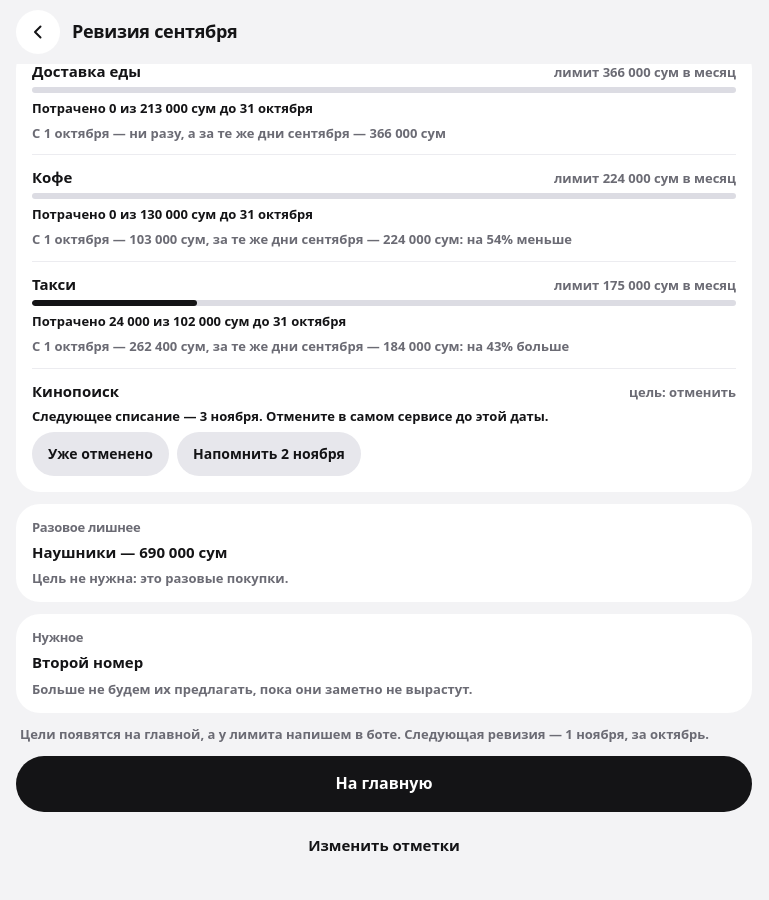
«Готово» and the result («Ревизия · итог и цели») › «Изменить отметки» returns to the list; «Готово» again shows the result
This screenshot has width=769, height=900.
(page scrolled)
Click the button "Изменить отметки" at (384, 846), box [16,824,752,868]
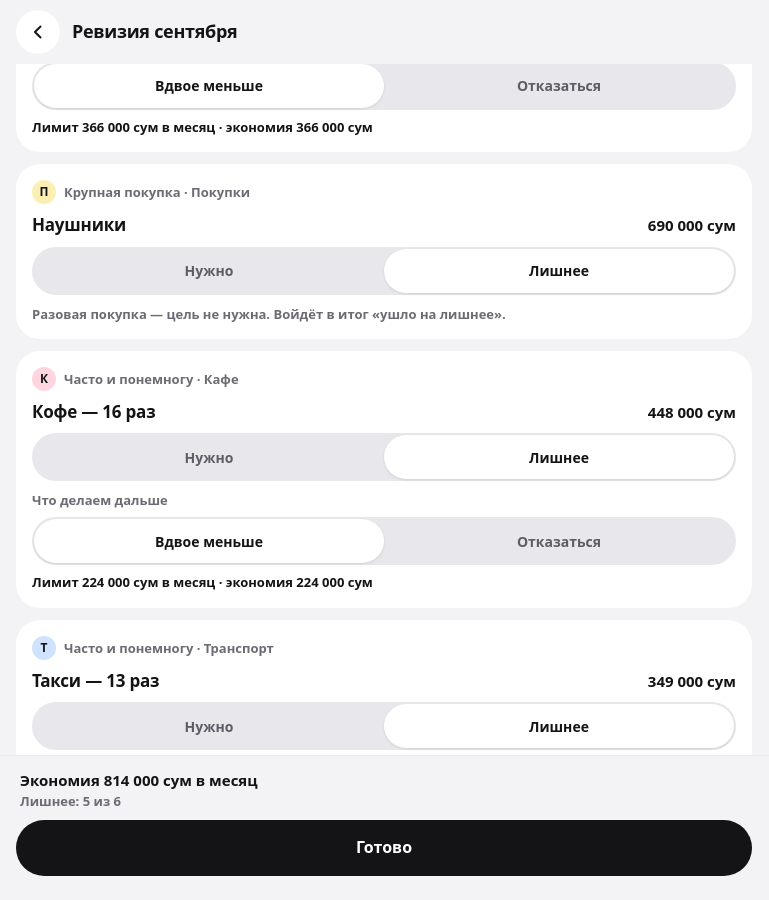
Expected: the button "Готово" is shown
Click the button "Готово" at (384, 848), box [16,820,752,876]
(page scrolled)
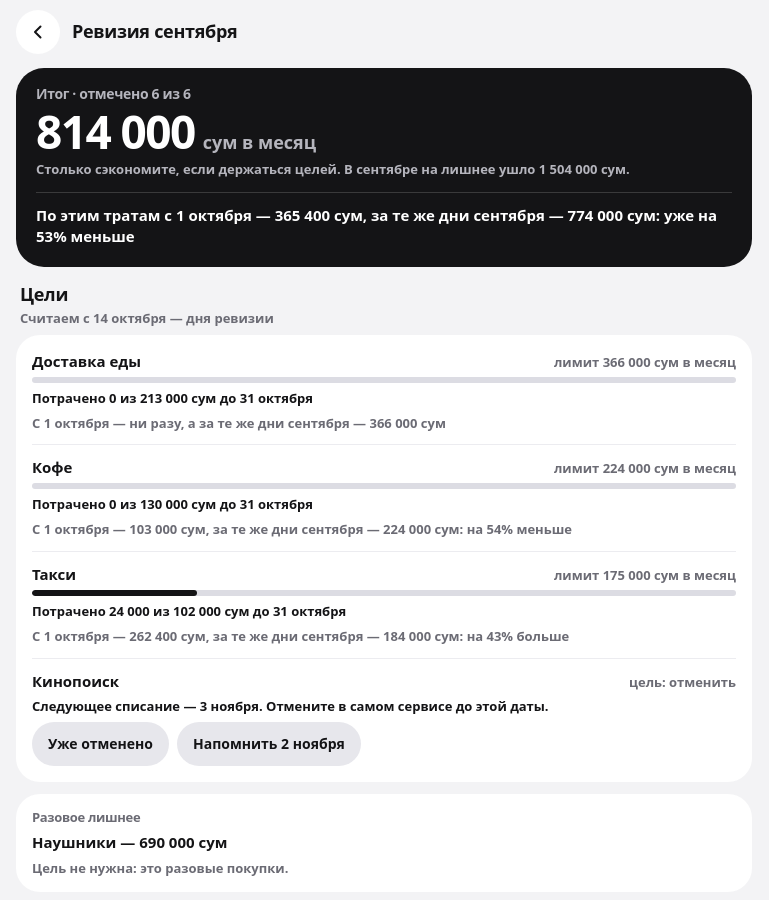
Expected: the element named "Итог ревизии" is shown, [16,68,752,267]
